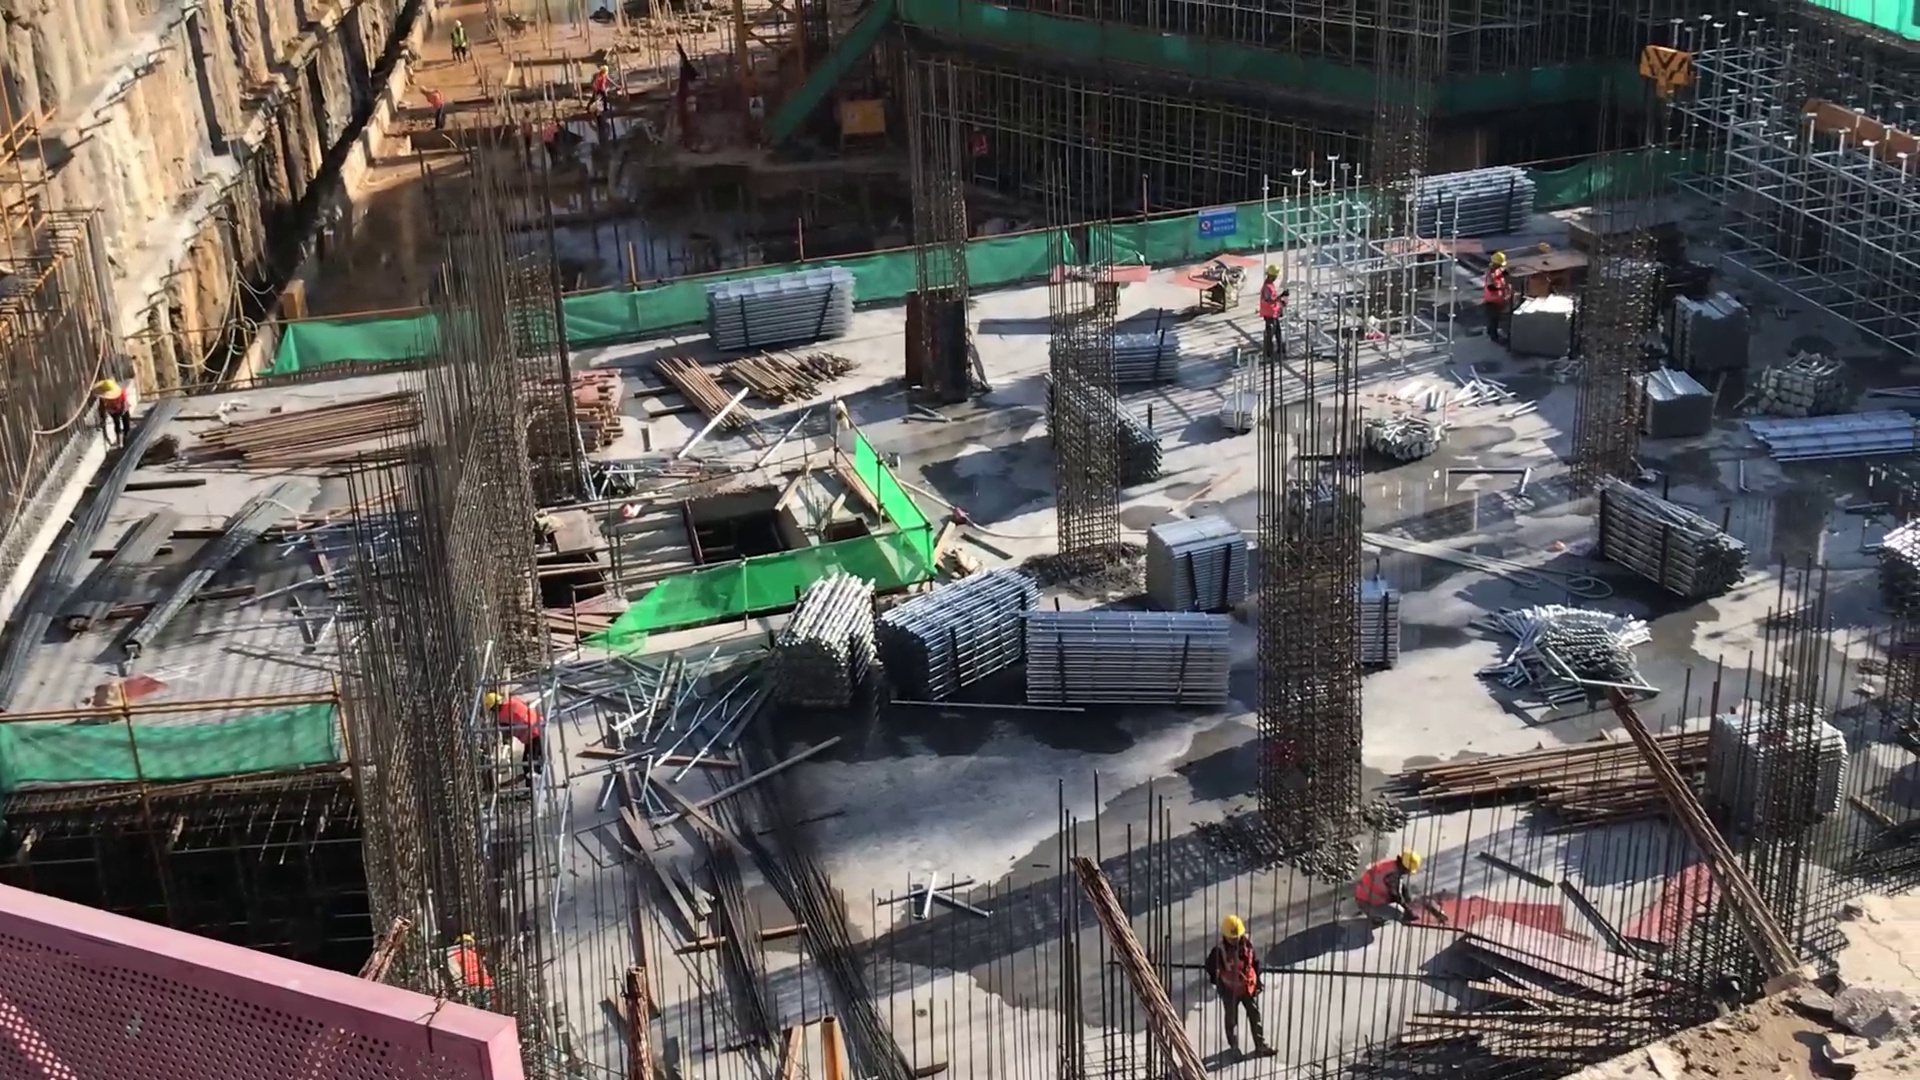cutter: (1046, 252, 1156, 312), (1182, 249, 1258, 313)
ebox: (834, 88, 893, 164)
helmet: (1213, 910, 1250, 945), (1397, 843, 1423, 881), (1485, 247, 1509, 271), (480, 690, 502, 715), (446, 932, 477, 950), (1260, 260, 1284, 280), (447, 19, 467, 30), (598, 60, 612, 77), (416, 79, 429, 96)
hook: (1629, 31, 1705, 121)
person: (1196, 906, 1287, 1067), (1345, 843, 1428, 931), (481, 688, 548, 781), (436, 930, 498, 1014), (1252, 260, 1298, 363), (1475, 248, 1514, 353), (90, 372, 137, 447), (417, 81, 451, 133), (586, 57, 613, 117), (445, 16, 473, 69)
scaffold: (876, 554, 1045, 715), (1584, 464, 1750, 612), (1023, 601, 1239, 714), (761, 557, 897, 715), (700, 257, 861, 360), (1142, 497, 1250, 623), (1394, 157, 1542, 247), (1663, 291, 1763, 401), (1624, 356, 1726, 438)
vest: (1352, 855, 1402, 913), (1212, 941, 1257, 1002), (440, 947, 495, 991), (501, 695, 545, 743), (1252, 279, 1287, 325), (1480, 272, 1512, 309), (95, 392, 130, 418), (587, 73, 611, 96), (450, 28, 468, 53), (429, 88, 446, 113)
